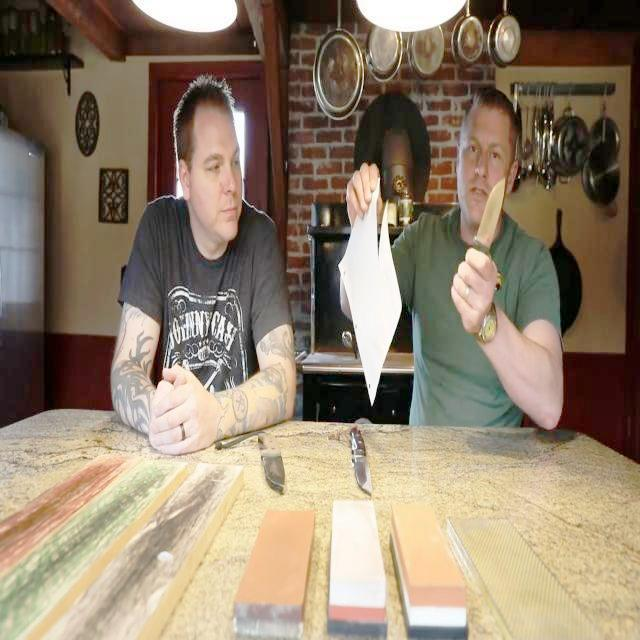Knife: (472, 179, 514, 273), (342, 418, 382, 498), (250, 430, 292, 493)
